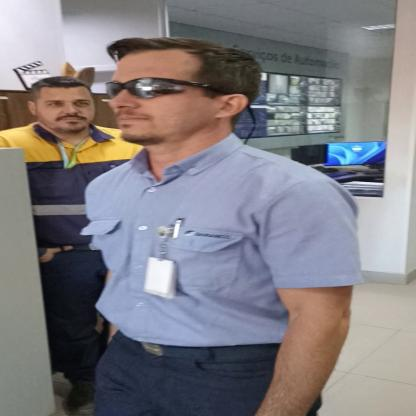Operacional: (2, 129, 96, 251)
